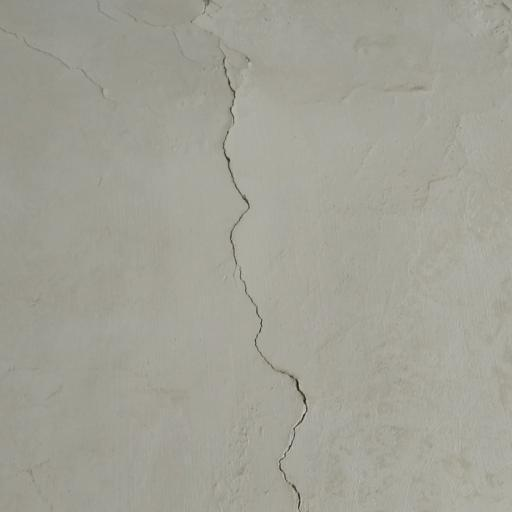minor_crack: (172, 20, 316, 512), (0, 3, 129, 123)
peeling: (75, 0, 201, 70)
